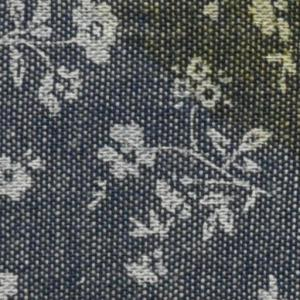Oil Stain: (108, 1, 300, 155)
